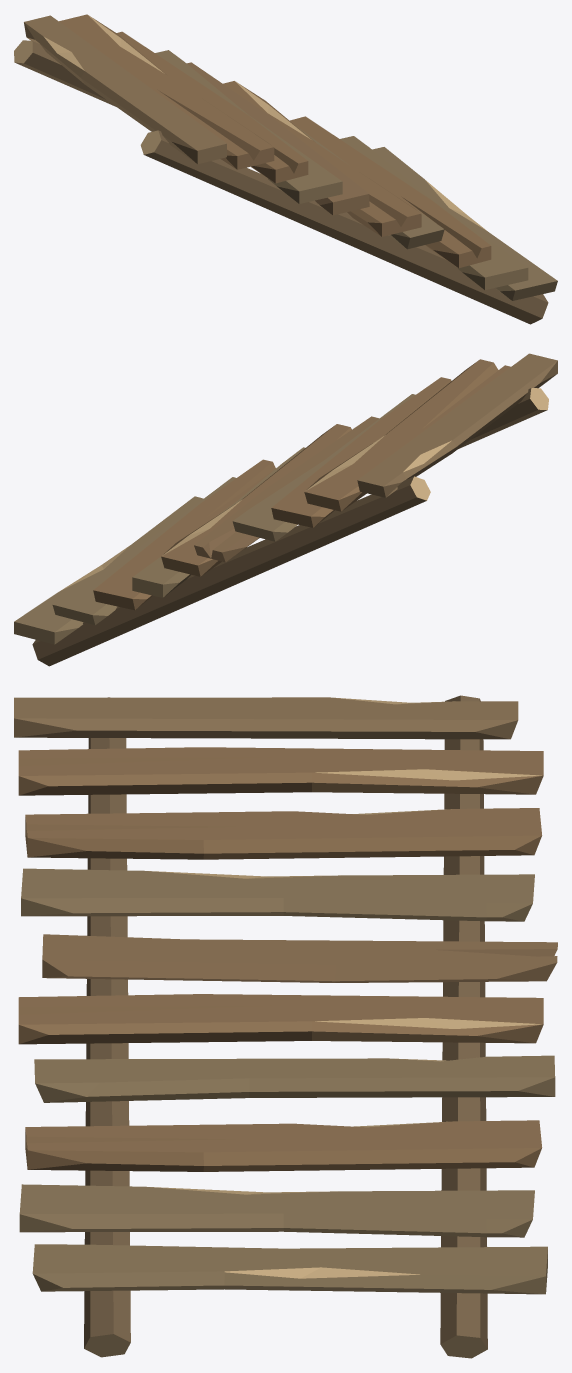
Rendered from rpgpp_ag_wall_platform_stairs_01a_2m.fbx.
The picture shows the model from 3 angles, top to bottom: view 1: azimuth 30°, elevation 25°; view 2: azimuth 150°, elevation 25°; view 3: azimuth 270°, elevation 25°; orthographic projection. The views are drawn at different scales.
Visible parts, largest first — view 1: rpgpp_ag_wall_platform_stairs_01a_2m; view 2: rpgpp_ag_wall_platform_stairs_01a_2m; view 3: rpgpp_ag_wall_platform_stairs_01a_2m.
Part boxes in pixels (<box>): rpgpp_ag_wall_platform_stairs_01a_2m: <box>14,14,557,324</box>; rpgpp_ag_wall_platform_stairs_01a_2m: <box>14,353,557,666</box>; rpgpp_ag_wall_platform_stairs_01a_2m: <box>14,695,557,1358</box>.
Size of the model in its own units: 2.84 by 1.92 by 2.32.
